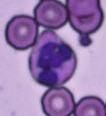N: (27, 31, 77, 86)
